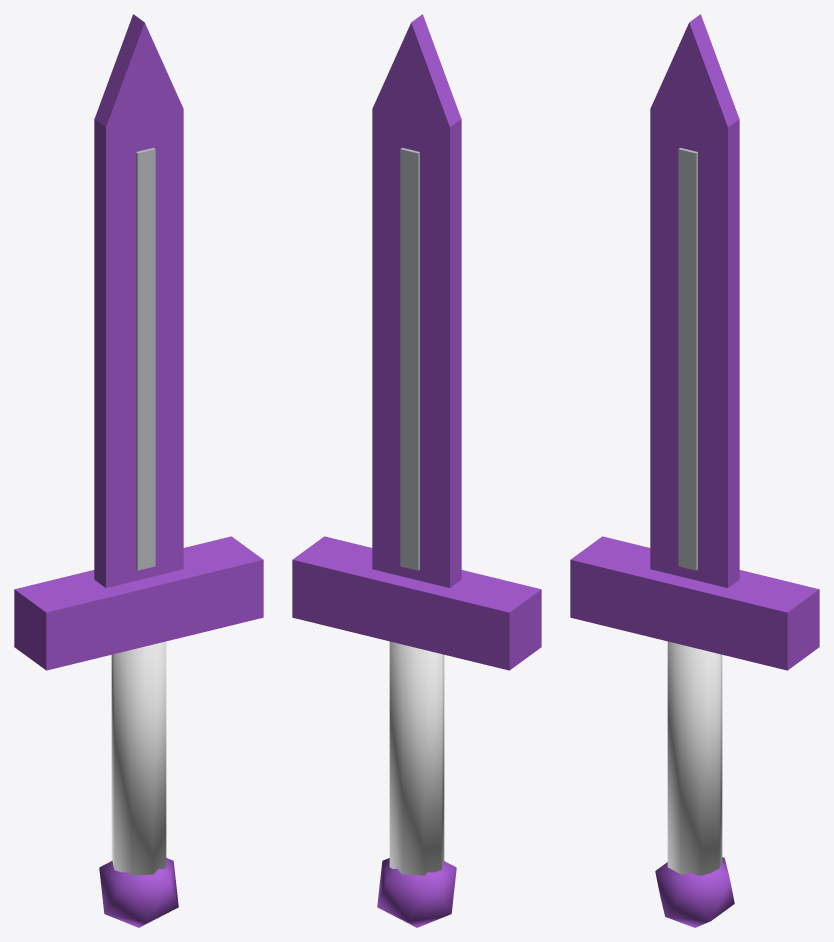
The model's file is magic_dagger.glb.
3 renders of one model, left to right at view 1: azimuth 30°, elevation 25°; view 2: azimuth 150°, elevation 25°; view 3: azimuth 330°, elevation 25°, orthographic.
Parts seen in each view (by area): view 1: magic_dagger_v0; view 2: magic_dagger_v0; view 3: magic_dagger_v0.
Boxes of the visible parts, left/top/right/bottom form: magic_dagger_v0: left=14, top=14, right=263, bottom=927; magic_dagger_v0: left=292, top=14, right=541, bottom=927; magic_dagger_v0: left=570, top=14, right=819, bottom=927.
Bounding box in the file's own units: 0.196 × 0.785 × 0.0595.
